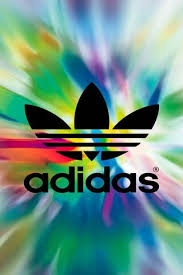adidas: (23, 81, 161, 194)
